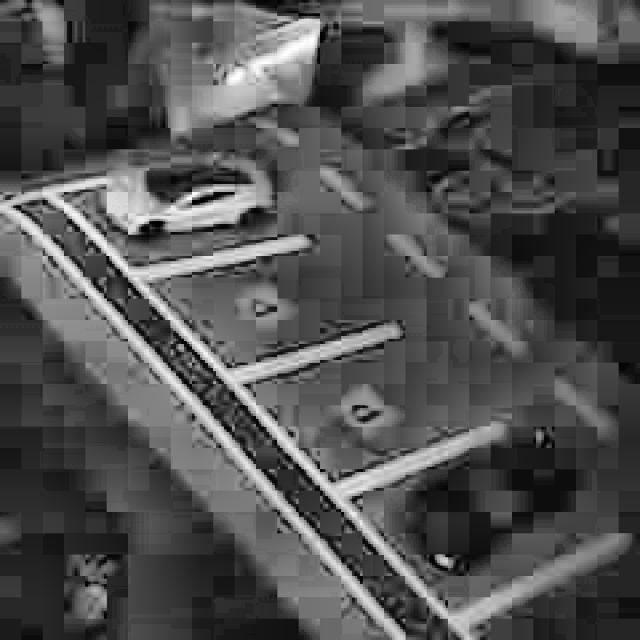car: (406, 427, 582, 571), (86, 147, 282, 243)
